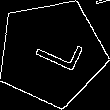L_NW: (22, 28, 82, 77)
